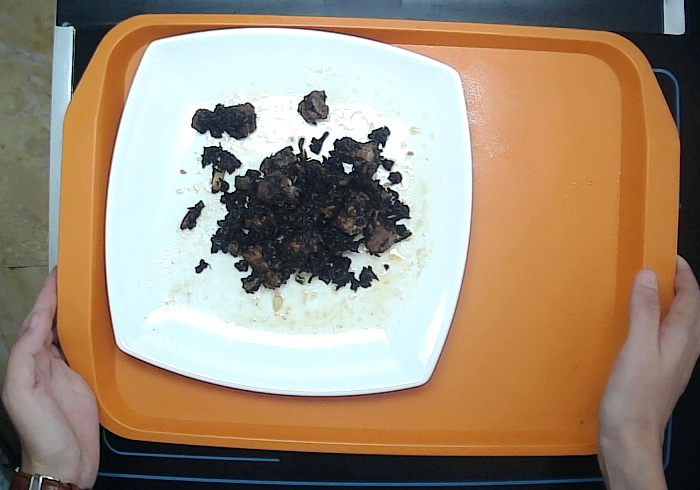ZNLD-Bai_Fang_Pan: (101, 23, 475, 404)
